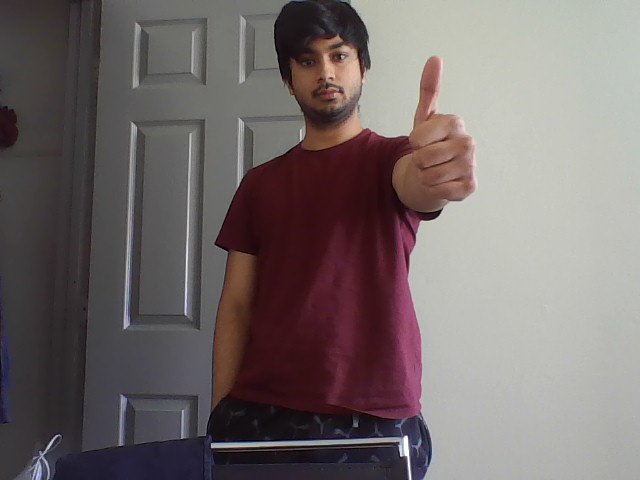confirm: (405, 52, 483, 209)
